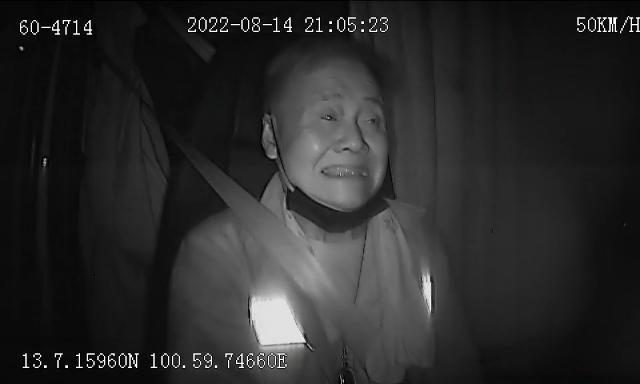SafeDriving: (356, 102, 388, 135), (311, 102, 344, 130)
Seatbelt: (174, 136, 383, 376)
